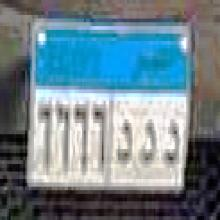6: (90, 100, 108, 176), (54, 97, 71, 174), (36, 100, 53, 176), (73, 100, 88, 174)
daal: (162, 114, 181, 173), (115, 117, 135, 172), (139, 119, 158, 168)
